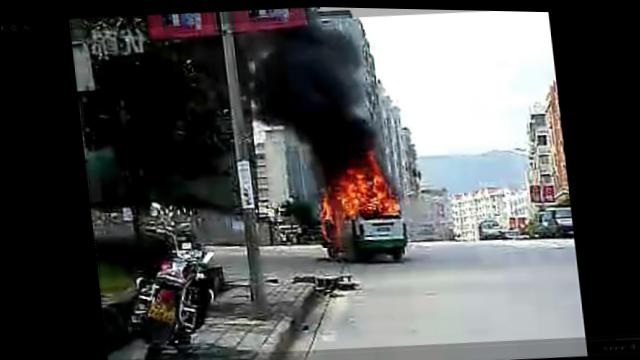fire: (336, 169, 392, 217), (315, 192, 330, 220), (363, 146, 380, 170), (389, 196, 400, 215)
